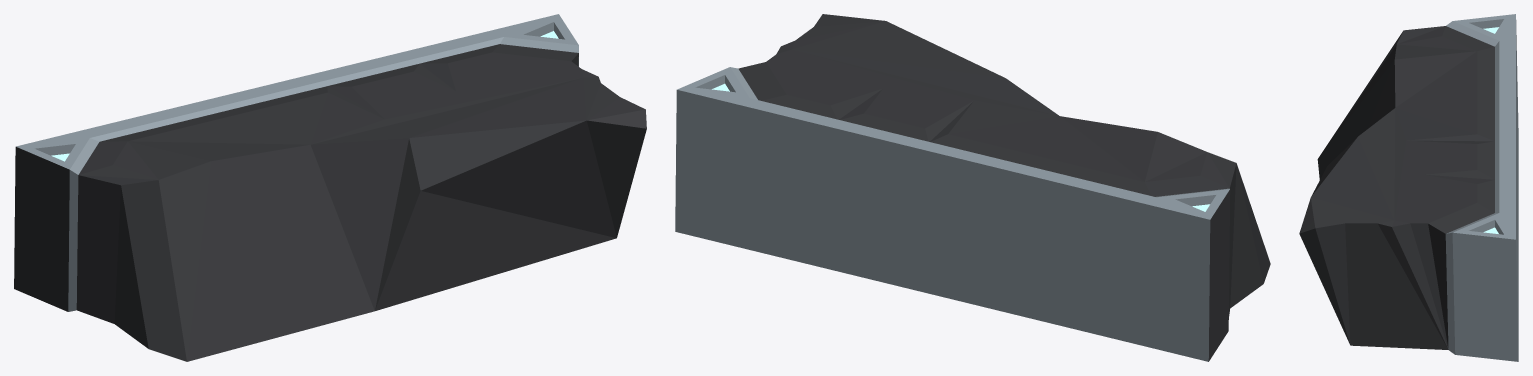
File: Floor_Large_Square_Damaged.fbx
3 renders of one model, left to right at view 1: azimuth 30°, elevation 25°; view 2: azimuth 150°, elevation 25°; view 3: azimuth 270°, elevation 25°, orthographic. The views are drawn at different scales.
Visible parts, largest first — view 1: Floor_Large_Square_Damaged; view 2: Floor_Large_Square_Damaged; view 3: Floor_Large_Square_Damaged.
Boxes of the visible parts, left/top/right/bottom form: Floor_Large_Square_Damaged: left=14, top=14, right=646, bottom=361; Floor_Large_Square_Damaged: left=675, top=14, right=1270, bottom=361; Floor_Large_Square_Damaged: left=1299, top=14, right=1518, bottom=361.
Bounding box in the file's own units: 16 × 4.37 × 6.57.
